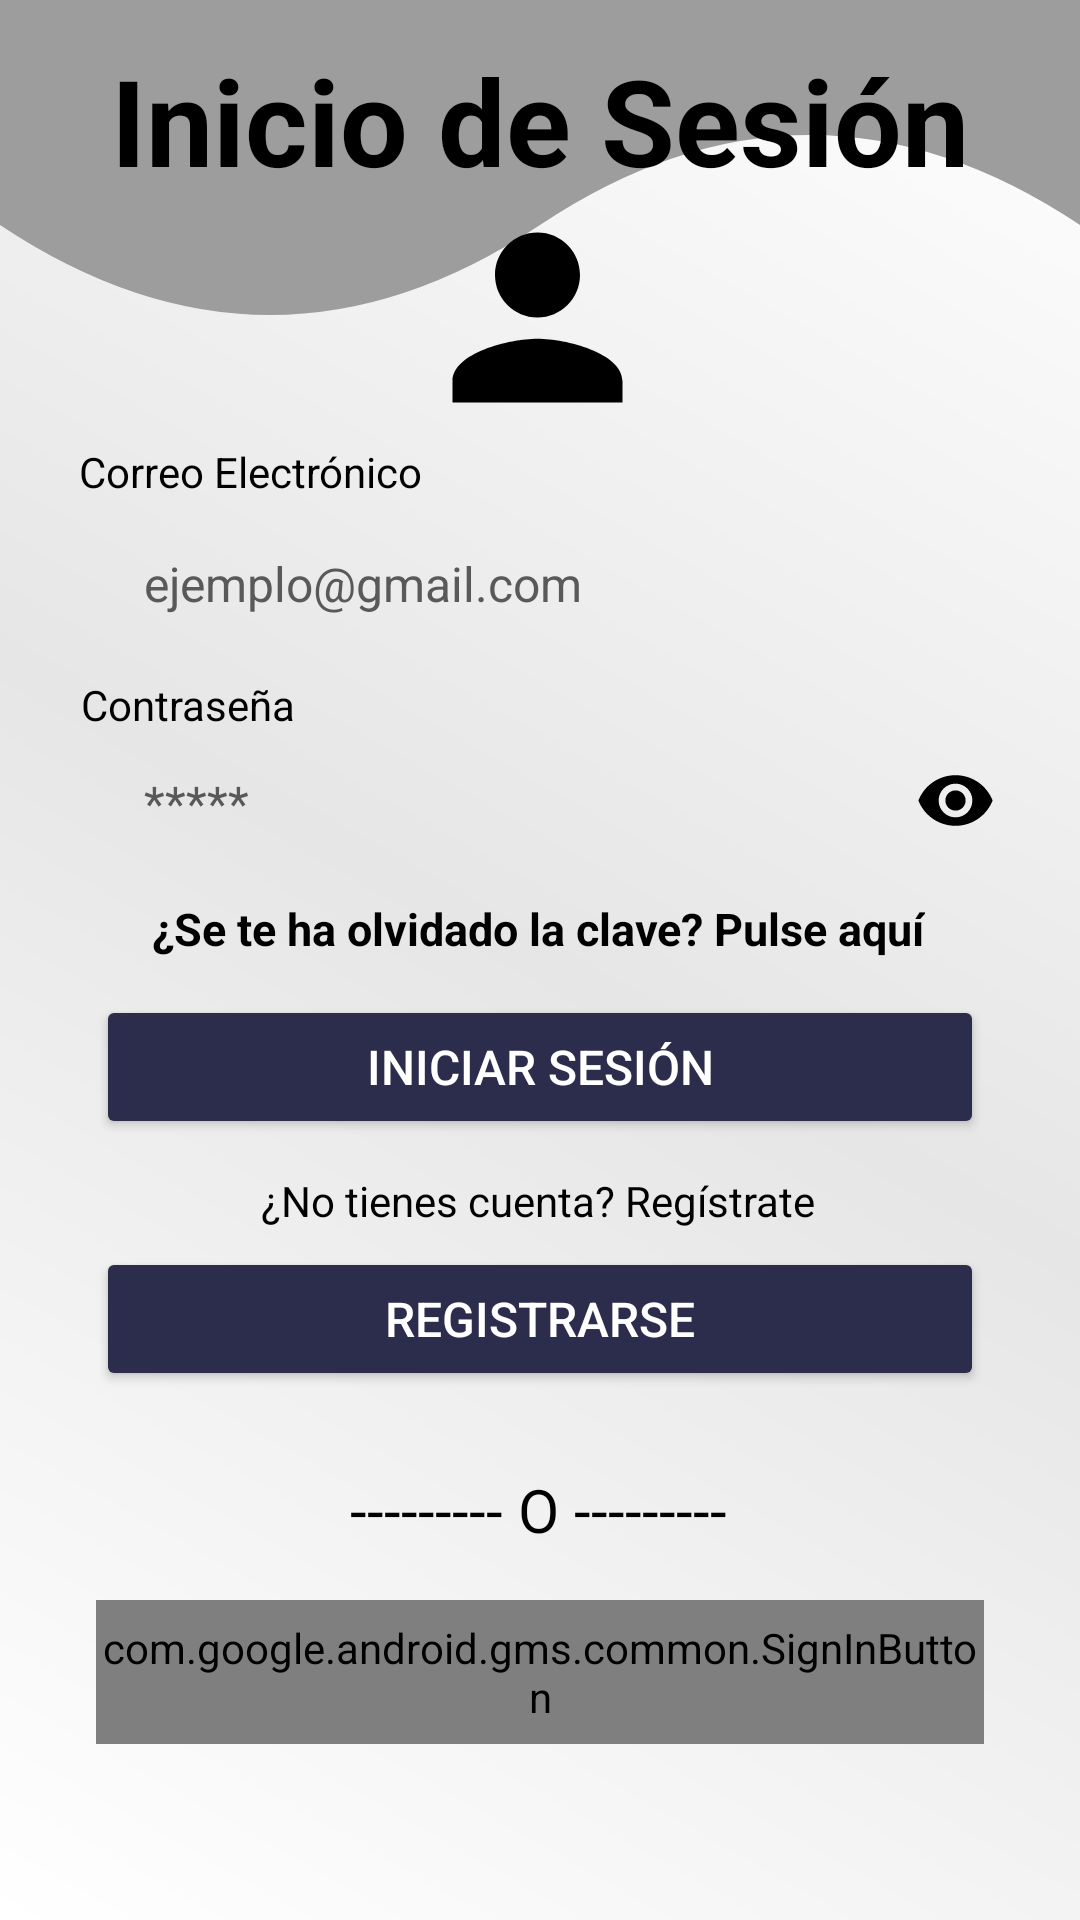

Screen size 1080w x 1920h. Icon name, then its center in pixels as (x=x, y=y):
Ver contraseña: (x=955, y=800)
